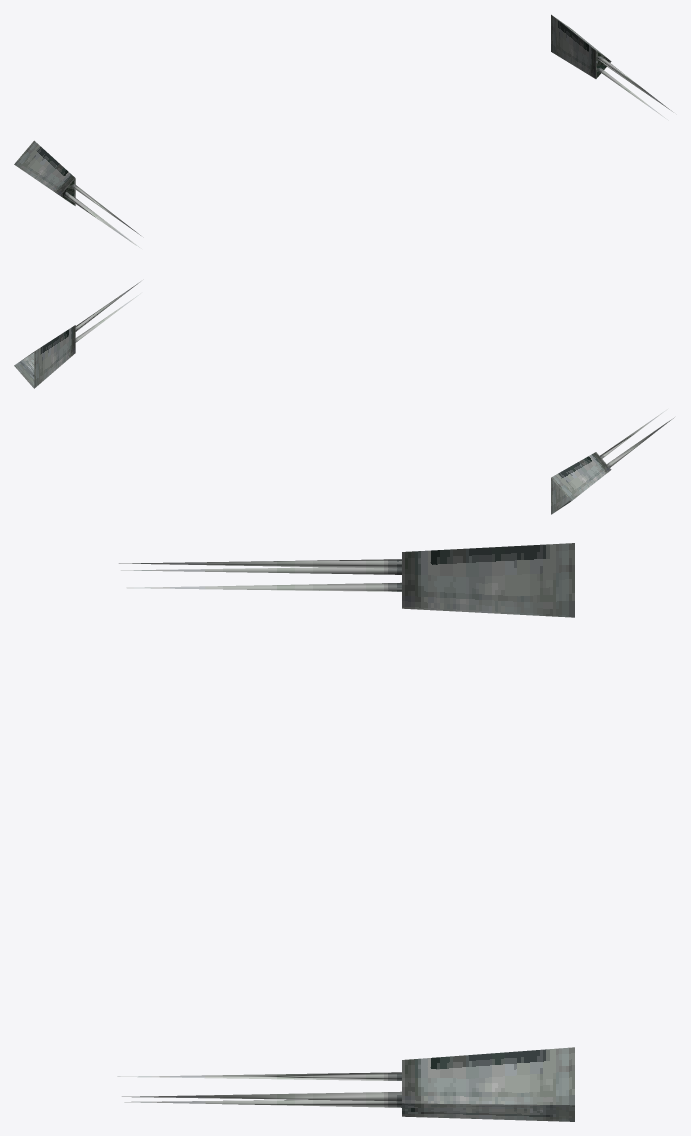
The model's file is black_sun_fighter_light_weapon_s04_l3.fbx.
The picture shows the model from 3 angles, top to bottom: view 1: azimuth 30°, elevation 25°; view 2: azimuth 150°, elevation 25°; view 3: azimuth 270°, elevation 25°; orthographic projection. The views are drawn at different scales.
Visible parts, largest first — view 1: mesh_node; view 2: mesh_node; view 3: mesh_node.
Boxes of the visible parts, x1,y1,x2,y2 form: mesh_node: [14, 14, 673, 248]; mesh_node: [14, 281, 674, 514]; mesh_node: [117, 543, 574, 1121].
Bounding box in the file's own units: 11.7 × 0.7491 × 4.17.
1 material, 1 textured.
